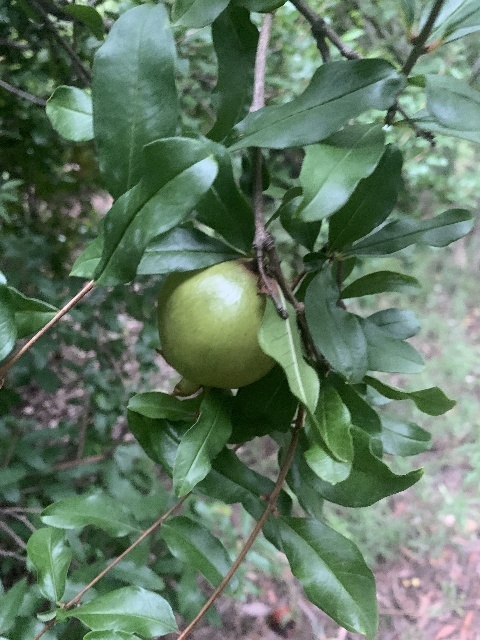mid-growth: (156, 260, 276, 396)
